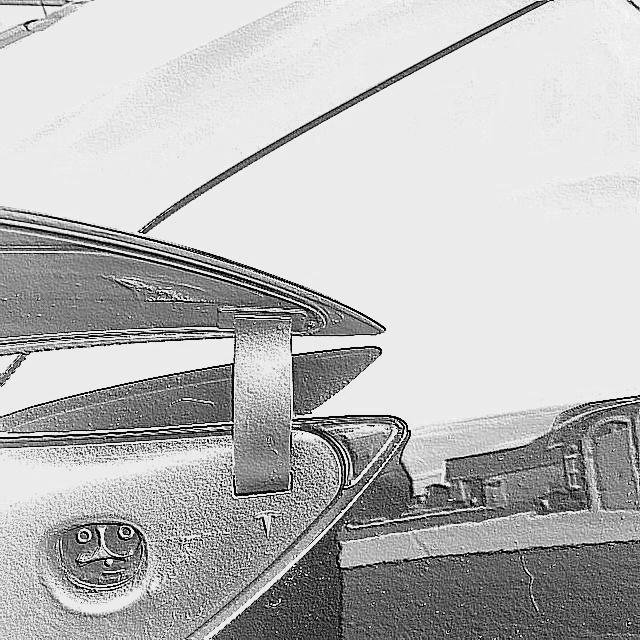Tesla Model-S-: (22, 503, 188, 634)
